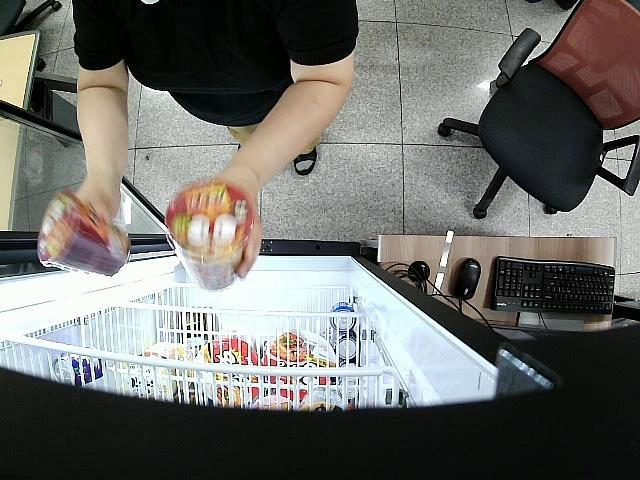06_nuguri_S: (164, 180, 253, 290), (34, 191, 130, 278)
